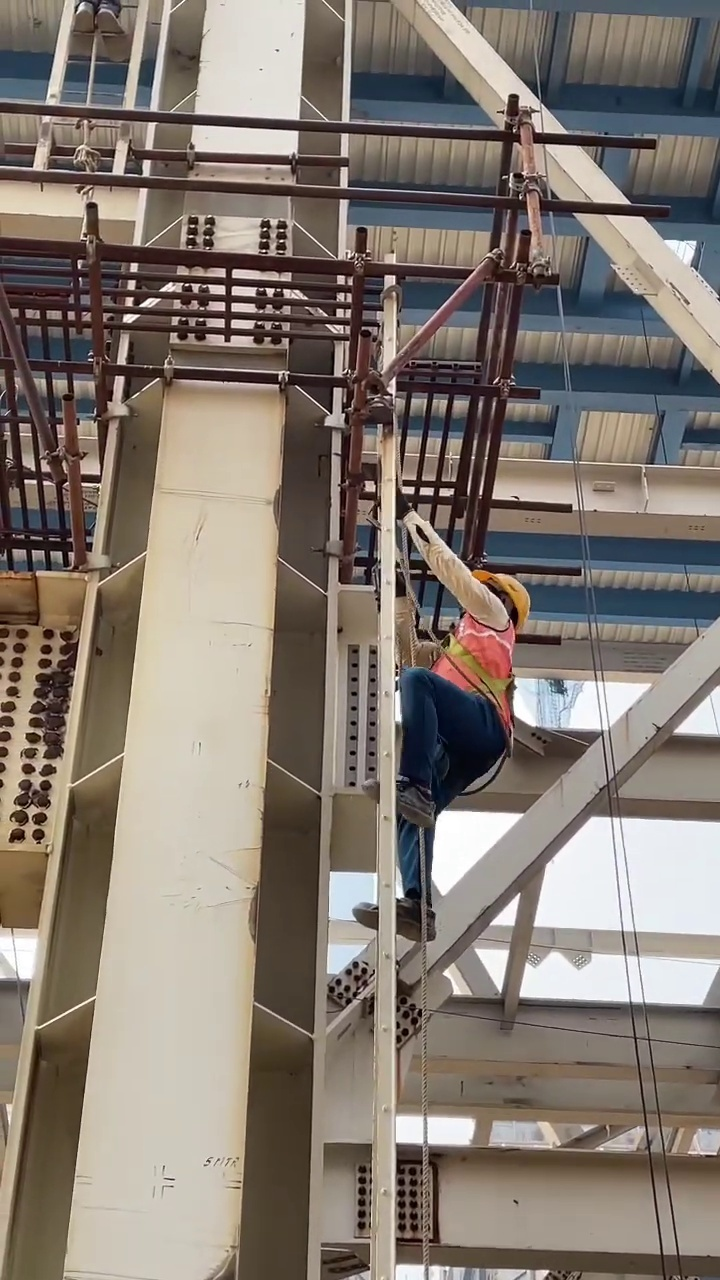Helmet: (477, 565, 531, 618)
Person: (349, 564, 533, 942)
Safety_Harness: (418, 615, 520, 754)
Safety_shoes: (349, 891, 435, 940), (363, 773, 436, 829)
